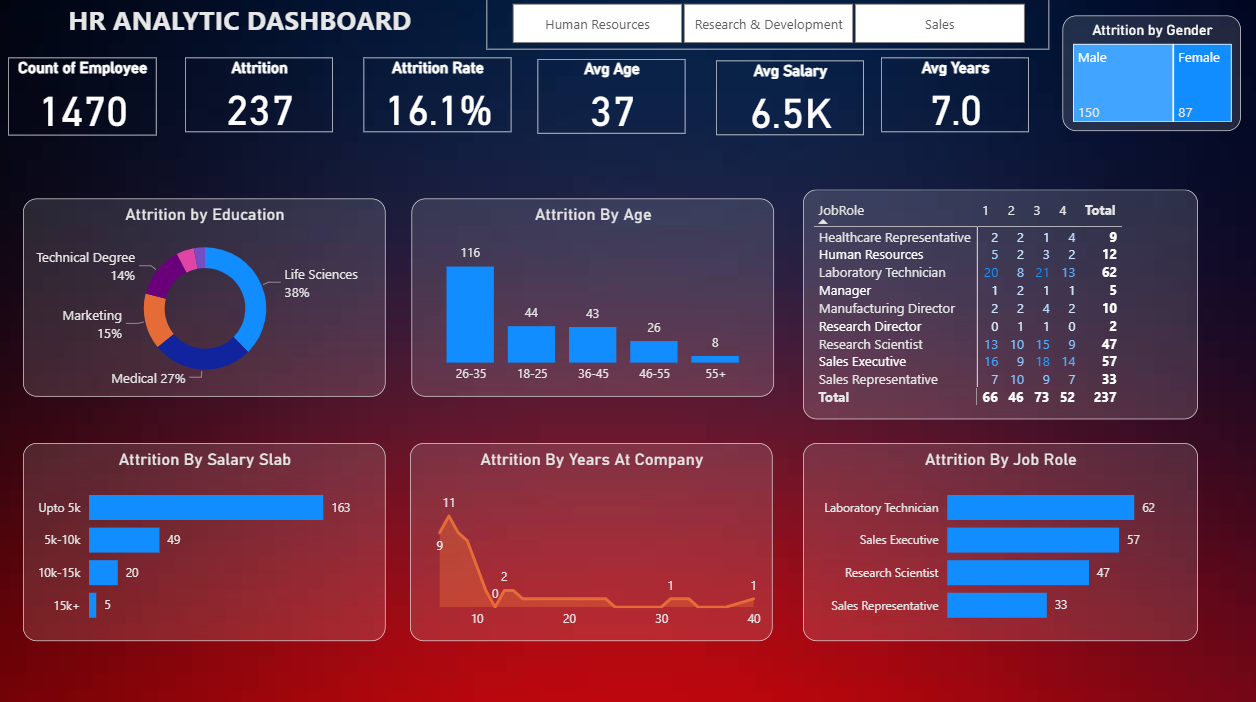

This screenshot's page, from the dashboard's own definition file:
{"tool":"powerbi","page":{"name":"Page 1","canvas":[1280,720],"ordinal":0},"visuals":[{"type":"card","title":"Count of Employee","fields":{"Values":["CountNonNull(HR_Analytics.EmpID)"]},"box":[15.1,62.1,149.9,78.7],"z":0},{"type":"card","title":"Attrition","fields":{"Values":["Sum(HR_Analytics.AttritionCount)"]},"box":[193.8,61.5,149.2,75.4],"z":1000},{"type":"card","title":"Attrition Rate","fields":{"Values":["HR_Analytics.AttritionRate"]},"box":[373.8,61.5,149.2,75.4],"z":2000},{"type":"card","title":"Avg Age","fields":{"Values":["Avg(HR_Analytics.Age)"]},"box":[549.2,63.1,149.2,75.4],"z":3000},{"type":"card","title":"Avg Salary","fields":{"Values":["Avg(HR_Analytics.MonthlyIncome)"]},"box":[729.2,64.6,149.2,75.4],"z":4000},{"type":"card","title":"Avg Years","fields":{"Values":["Avg(HR_Analytics.YearsAtCompany)"]},"box":[896.9,61.5,149.2,75.4],"z":5000},{"type":"donutChart","title":"Attrition by Education ","fields":{"Y":["Sum(HR_Analytics.AttritionCount)"],"Category":["HR_Analytics.EducationField"]},"box":[30.8,204.6,366.2,200],"z":6000},{"type":"columnChart","title":"Attrition By Age","fields":{"Category":["HR_Analytics.AgeGroup"],"Y":["Sum(HR_Analytics.AttritionCount)"]},"box":[423.1,204.6,366.2,200],"z":7000},{"type":"pivotTable","fields":{"Rows":["HR_Analytics.JobRole"],"Columns":["HR_Analytics.JobSatisfaction"],"Values":["Sum(HR_Analytics.AttritionCount)"]},"box":[816.9,195.4,398.5,232.3],"z":8000},{"type":"barChart","title":"Attrition By Salary Slab","fields":{"Category":["HR_Analytics.SalarySlab"],"Y":["Sum(HR_Analytics.AttritionCount)"]},"box":[30.8,450.8,366.2,200],"z":9000},{"type":"barChart","title":"Attrition By Job Role","fields":{"Y":["Sum(HR_Analytics.AttritionCount)"],"Category":["HR_Analytics.JobRole"]},"box":[816.9,450.8,398.5,200],"z":10000},{"type":"areaChart","title":"Attrition By Years At Company","fields":{"Category":["HR_Analytics.YearsAtCompany"],"Y":["Sum(HR_Analytics.AttritionCount)"]},"box":[421.5,450.8,366.2,200],"z":11000},{"type":"treemap","title":"Attrition by Gender","fields":{"Group":["HR_Analytics.Gender"],"Values":["Sum(HR_Analytics.AttritionCount)"]},"box":[1080,20,180,116.9],"z":12000},{"type":"slicer","fields":{"Values":["HR_Analytics.Department"]},"box":[498.5,0,567.7,53.8],"z":13000},{"type":"textbox","box":[0,0,498.5,53.8],"z":14000}]}

Visuals, with their boxes in screenshot pixels (x1, y1, x2, y2), scaled from the page's 1280x720 canvas onto the 1256x702 screenshot:
"Count of Employee" card: bbox=[15, 61, 162, 137]
"Attrition" card: bbox=[190, 60, 337, 133]
"Attrition Rate" card: bbox=[367, 60, 513, 133]
"Avg Age" card: bbox=[539, 62, 685, 135]
"Avg Salary" card: bbox=[716, 63, 862, 136]
"Avg Years" card: bbox=[880, 60, 1026, 133]
"Attrition by Education " donutChart: bbox=[30, 199, 390, 394]
"Attrition By Age" columnChart: bbox=[415, 199, 775, 394]
pivotTable - HR_Analytics.JobRole x HR_Analytics.JobSatisfaction: bbox=[802, 191, 1193, 417]
"Attrition By Salary Slab" barChart: bbox=[30, 440, 390, 635]
"Attrition By Job Role" barChart: bbox=[802, 440, 1193, 635]
"Attrition By Years At Company" areaChart: bbox=[414, 440, 773, 635]
"Attrition by Gender" treemap: bbox=[1060, 20, 1236, 133]
slicer - HR_Analytics.Department: bbox=[489, 0, 1046, 52]
textbox: bbox=[0, 0, 489, 52]
